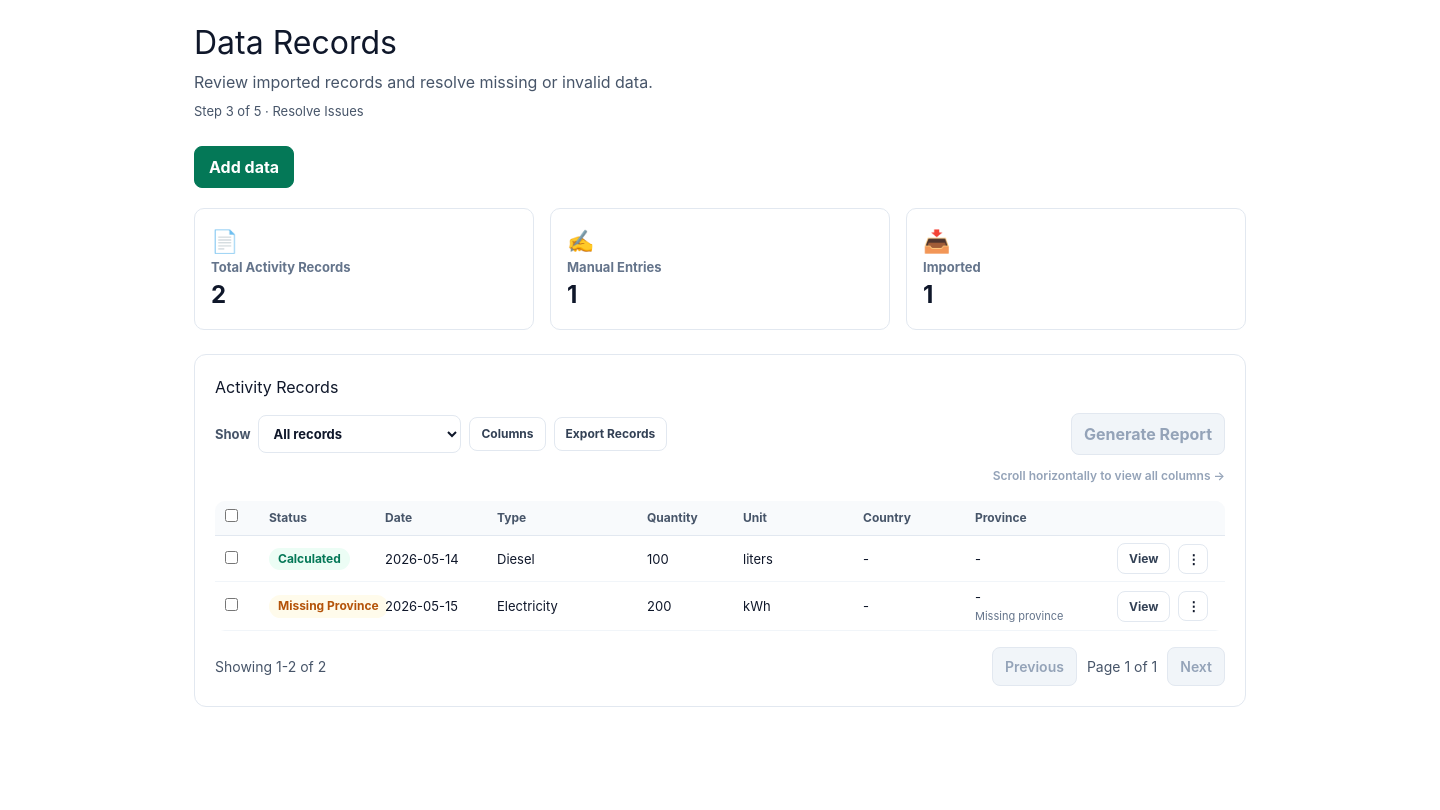
ActivityDataPage delete flows › shows Delete selected in the More menu for legacy USER role selections
Check: the text "Diesel" is shown, box [487,536,637,582]
Click the checkbox named "Select activity record Diesel 2026-05-14".
click(232, 557)  # box [225,551,238,564]
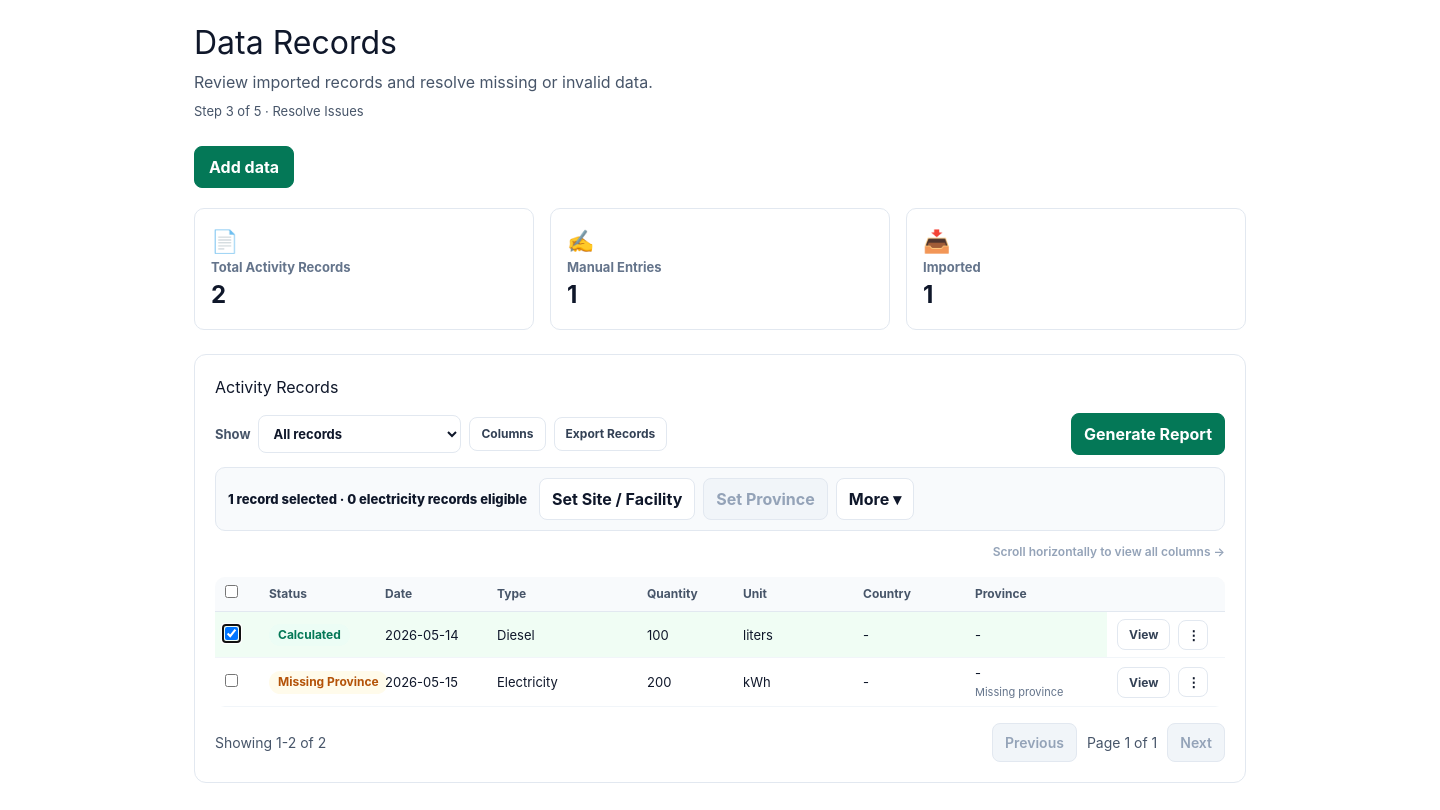
Click the button "More ▾".
click(875, 499)  # box [836,478,914,520]
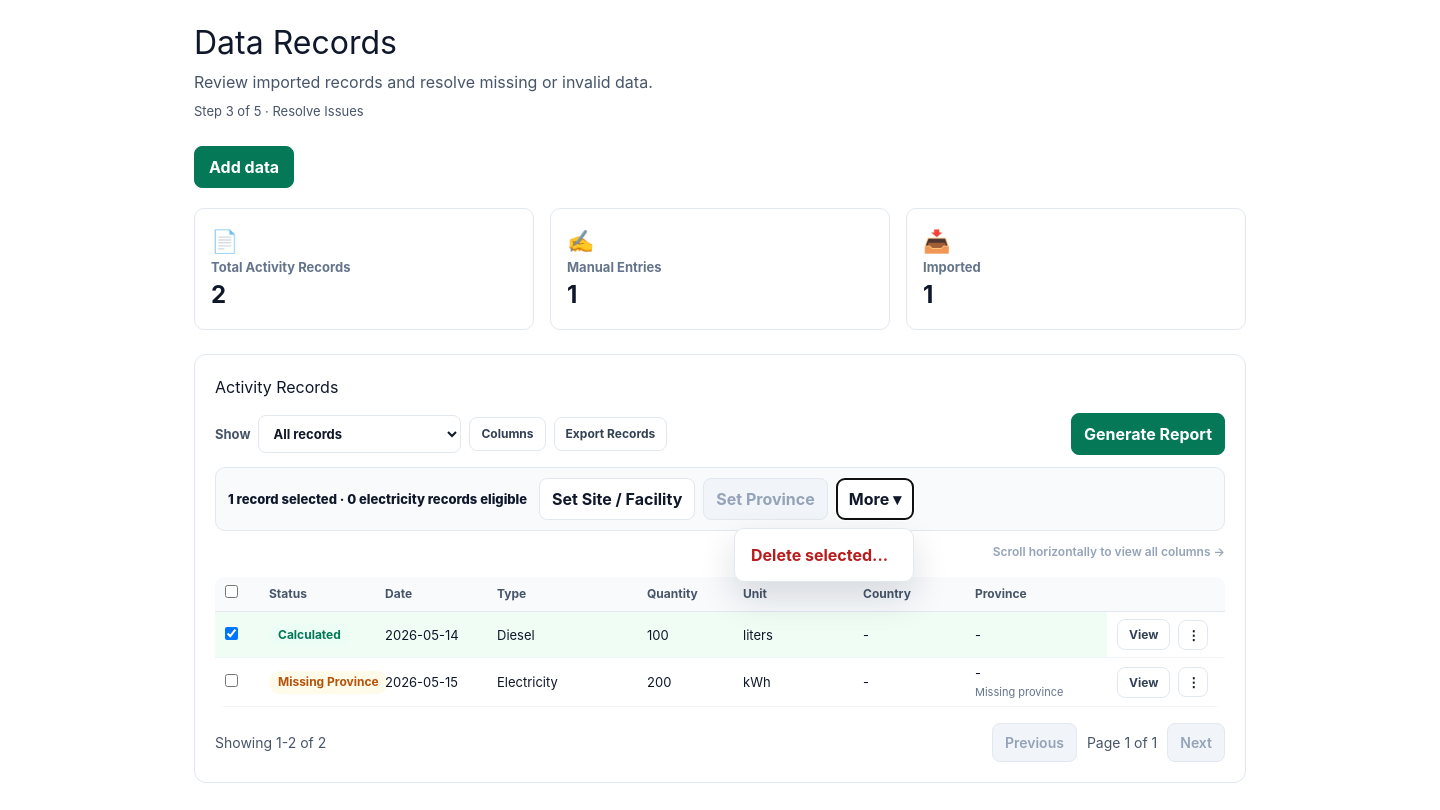
Check: the menu item "Delete selected..." is shown, box [741,535,907,575]
